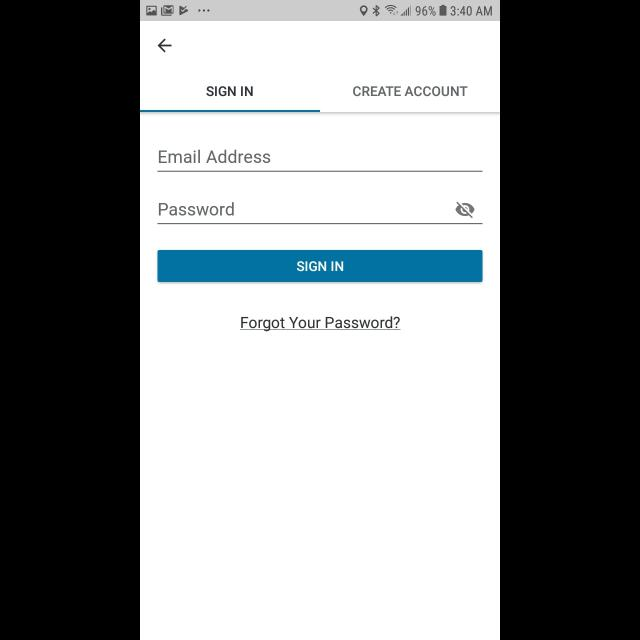icon: (455, 202, 475, 218), (158, 39, 172, 53)
input: (158, 202, 482, 225), (158, 150, 482, 172)
text: (240, 316, 400, 332), (159, 150, 271, 164), (352, 86, 468, 98), (160, 202, 234, 216), (207, 85, 253, 96)
textbutton: (158, 250, 482, 282)
uppertaskbar: (140, 1, 500, 22)
